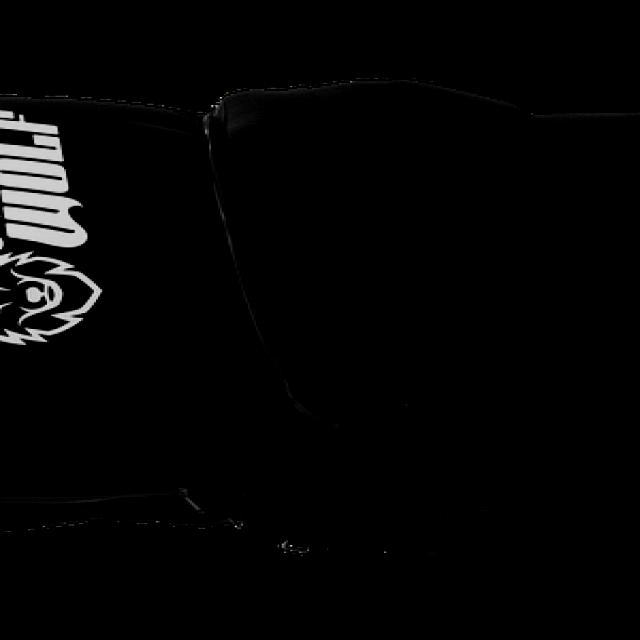backpack: (1, 77, 639, 560)
